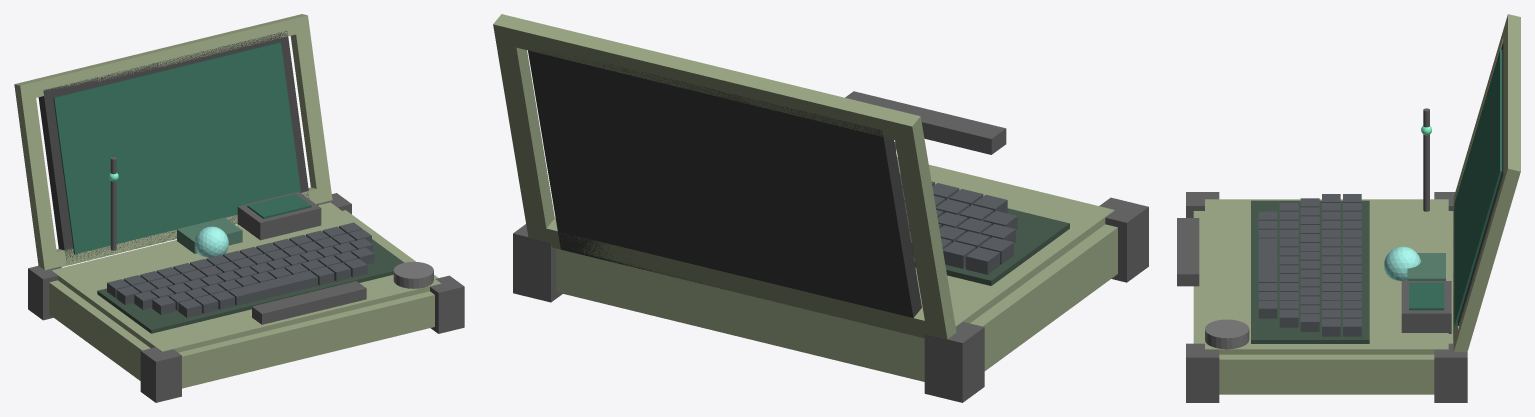
The model's file is build-field-operator.glb.
3 views of the same model, side by side, from view 1: azimuth 30°, elevation 25°; view 2: azimuth 150°, elevation 25°; view 3: azimuth 270°, elevation 25° (orthographic). The views are drawn at different scales.
Visible parts, largest first — view 1: geometry_12, geometry_0, geometry_1, geometry_11, geometry_7, geometry_9, geometry_10, geometry_13, geometry_6, geometry_3, geometry_83, geometry_8 (+8 smaller); view 2: geometry_11, geometry_0, geometry_7, geometry_1, geometry_8, geometry_9, geometry_10, geometry_2, geometry_6, geometry_4, geometry_13, geometry_3 (+2 smaller); view 3: geometry_1, geometry_0, geometry_12, geometry_13, geometry_7, geometry_10, geometry_5, geometry_4, geometry_83, geometry_6, geometry_88, geometry_84 (+13 smaller).
Part boxes in pixels (x1,y1,x2,y2): geometry_12: (53,42,300,254); geometry_0: (49,210,438,388); geometry_1: (51,202,441,352); geometry_11: (38,31,309,265); geometry_7: (15,14,309,97); geometry_9: (14,81,57,269); geometry_10: (290,14,332,202); geometry_13: (97,239,404,333); geometry_6: (252,281,366,324); geometry_3: (140,347,181,402); geometry_83: (237,191,321,240); geometry_8: (37,185,332,269); geometry_11: (528,48,921,317); geometry_0: (555,218,1117,381); geometry_7: (493,14,923,144); geometry_1: (897,157,1114,326); geometry_8: (526,218,956,339); geometry_9: (892,112,955,338); geometry_10: (493,14,554,241); geometry_2: (924,322,984,402); geometry_6: (845,91,1006,154); geometry_4: (513,224,562,302); geometry_13: (913,208,1069,285); geometry_3: (1099,197,1148,282); geometry_1: (1205,199,1448,354); geometry_0: (1193,211,1453,394); geometry_12: (1454,49,1502,326); geometry_13: (1251,200,1369,343); geometry_7: (1503,14,1520,186); geometry_10: (1453,161,1520,351); geometry_5: (1186,343,1219,402); geometry_4: (1434,343,1467,402); geometry_83: (1401,281,1451,333); geometry_6: (1177,218,1199,286); geometry_88: (1205,319,1249,349); geometry_84: (1409,282,1444,310).
Size of the model in its own units: 0.354 by 0.2276 by 0.31.
